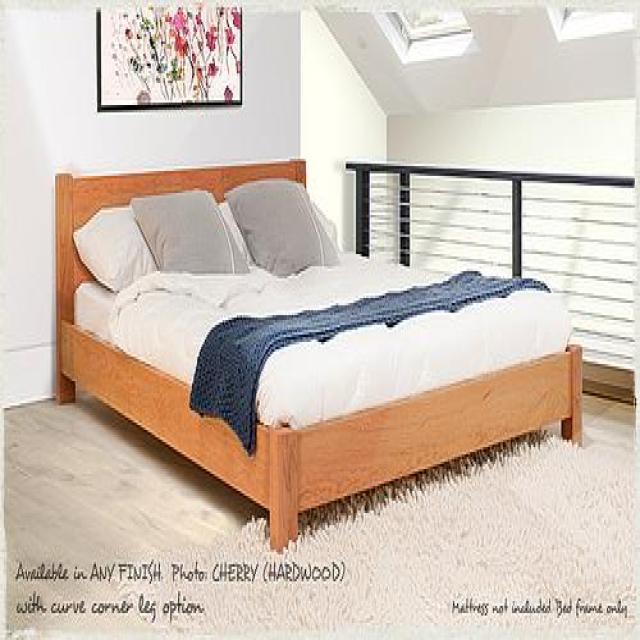bed: (54, 156, 584, 552)
